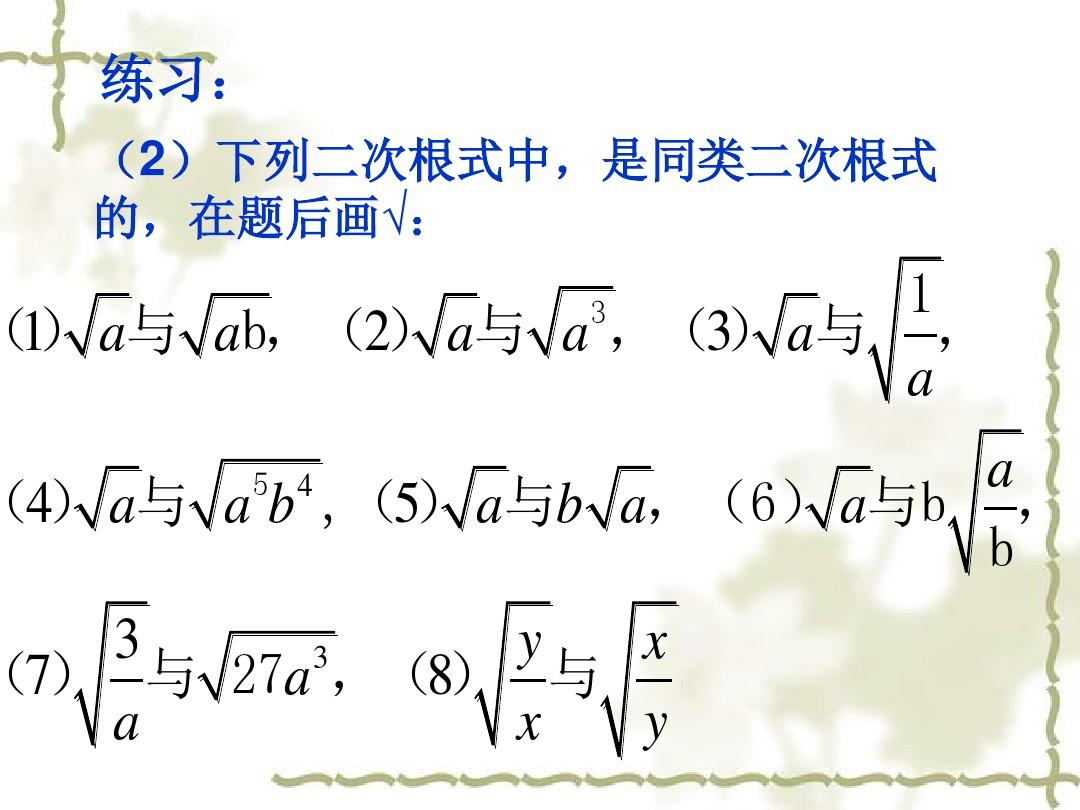cube: (307, 639, 338, 670), (587, 296, 610, 332)
division: (622, 668, 676, 694), (967, 498, 1022, 521), (494, 670, 550, 692), (96, 671, 147, 694), (894, 326, 944, 347)
sqrt: (603, 586, 677, 776), (203, 628, 353, 719), (473, 595, 552, 757), (194, 444, 323, 538), (873, 253, 952, 401), (953, 420, 1021, 585), (82, 592, 149, 748), (527, 279, 614, 373), (811, 456, 882, 543), (190, 290, 270, 362), (444, 456, 518, 528), (579, 460, 653, 530), (414, 284, 481, 361), (757, 287, 820, 364), (78, 457, 140, 532), (69, 288, 129, 361)
